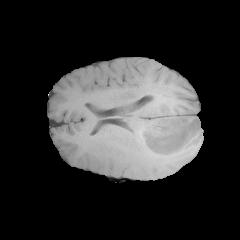glioma: (133, 114, 200, 163)
